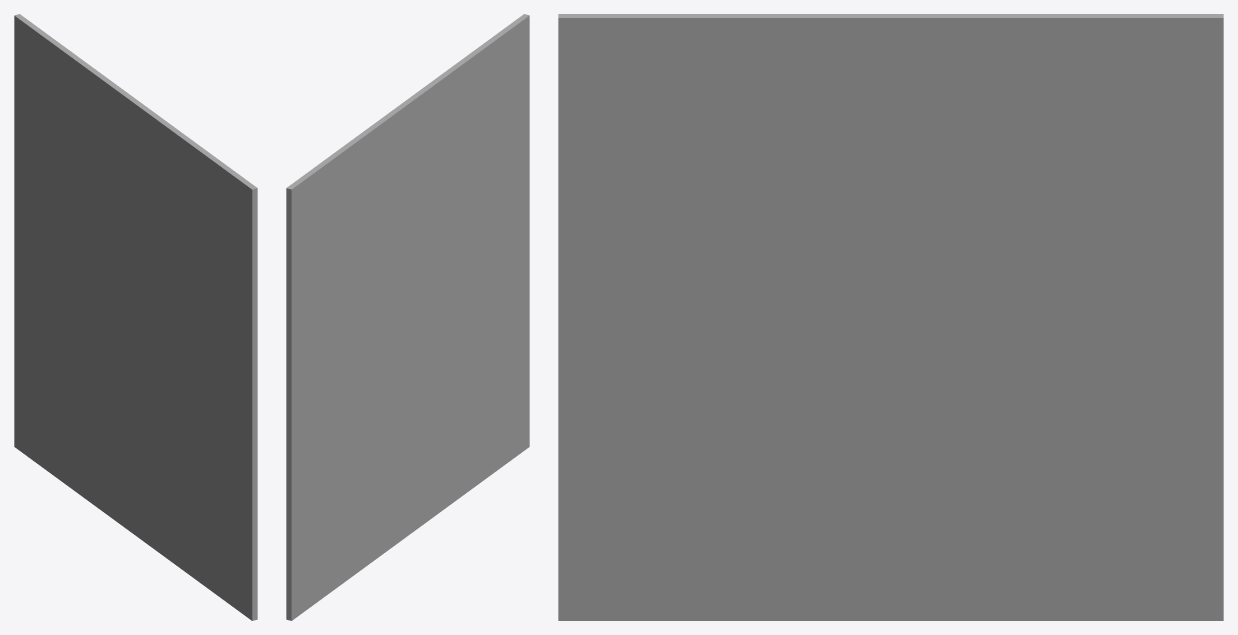
Rendered from Window01_12x12_light.fbx.
The picture shows the model from 3 angles, left to right: view 1: azimuth 30°, elevation 25°; view 2: azimuth 150°, elevation 25°; view 3: azimuth 270°, elevation 25°; orthographic projection. The views are drawn at different scales.
Visible parts, largest first — view 1: Cube#2; view 2: Cube#2; view 3: Cube#2.
Boxes of the visible parts, left/top/right/bottom form: Cube#2: left=14, top=14, right=257, bottom=620; Cube#2: left=286, top=14, right=529, bottom=620; Cube#2: left=558, top=14, right=1223, bottom=620.
Size of the model in its own units: 0.3283 by 24 by 24.
Materials: 2 (2 with a texture image).
